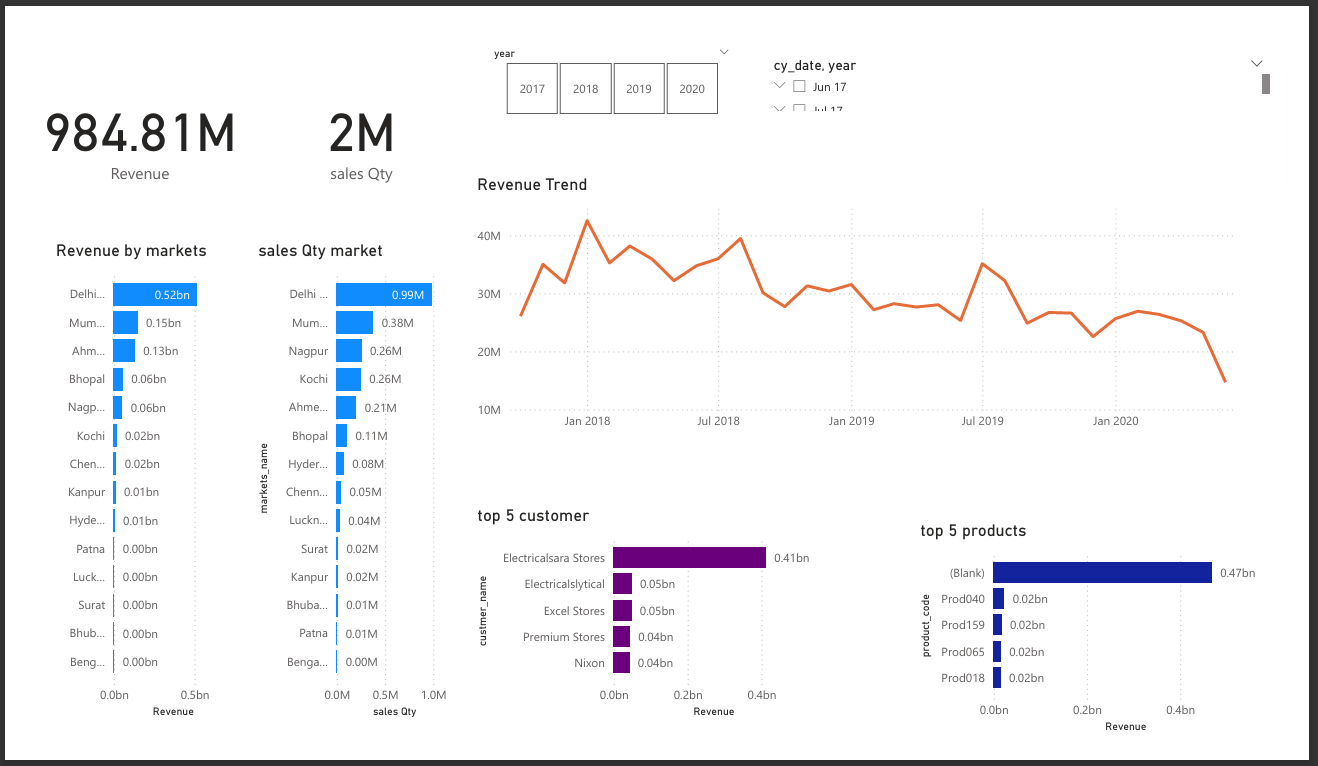

The page's visual inventory and layout, read from the dashboard file:
{"tool":"powerbi","page":{"name":"Page 1","canvas":[1280,720],"ordinal":0},"visuals":[{"type":"card","fields":{"Values":["base measure.Revenue"]},"box":[0,0,227.1,215.7],"z":0},{"type":"card","fields":{"Values":["base measure.sales Qty"]},"box":[227.1,0,224.3,215.7],"z":1000},{"type":"barChart","title":"Revenue by markets","fields":{"Y":["base measure.Revenue"],"Category":["sales markets.markets_name"]},"box":[23.3,215,205,490],"z":2000},{"type":"barChart","title":"sales Qty market","fields":{"Y":["base measure.sales Qty"],"Category":["sales markets.markets_name"]},"box":[228.8,215,222.5,490],"z":3000},{"type":"slicer","fields":{"Values":["sales date.year"]},"box":[461.4,12.9,264.3,80],"z":4000},{"type":"slicer","fields":{"Values":["sales date.cy_date","sales date.year"]},"box":[745.7,22.9,524.3,64.3],"z":4001},{"type":"barChart","title":"top 5 customer","fields":{"Y":["base measure.Revenue"],"Category":["sales customers.custmer_name"]},"box":[451.7,485,368.3,220],"z":4002},{"type":"barChart","title":"top 5 products","fields":{"Y":["base measure.Revenue"],"Category":["sales products.product_code"]},"box":[903.3,500,368.3,220],"z":4003},{"type":"lineChart","title":"Revenue Trend","fields":{"Y":["base measure.Revenue"],"Category":["sales date.cy_date.Variation.Date Hierarchy.Year","sales date.cy_date.Variation.Date Hierarchy.Quarter","sales date.cy_date.Variation.Date Hierarchy.Month","sales date.cy_date.Variation.Date Hierarchy.Day"]},"box":[451.7,146.7,796.7,270],"z":4004}]}

Visuals, with their boxes on the page's 1280x720 design canvas (x1, y1, x2, y2). These are canvas units, not pixel positions in the 1318x766 screenshot, which may show the page scaled, cropped or inside an application window:
card - base measure.Revenue: x1=0 y1=0 x2=227 y2=216
card - base measure.sales Qty: x1=227 y1=0 x2=451 y2=216
"Revenue by markets" barChart: x1=23 y1=215 x2=228 y2=705
"sales Qty market" barChart: x1=229 y1=215 x2=451 y2=705
slicer - sales date.year: x1=461 y1=13 x2=726 y2=93
slicer - sales date.cy_date x sales date.year: x1=746 y1=23 x2=1270 y2=87
"top 5 customer" barChart: x1=452 y1=485 x2=820 y2=705
"top 5 products" barChart: x1=903 y1=500 x2=1272 y2=720
"Revenue Trend" lineChart: x1=452 y1=147 x2=1248 y2=417
